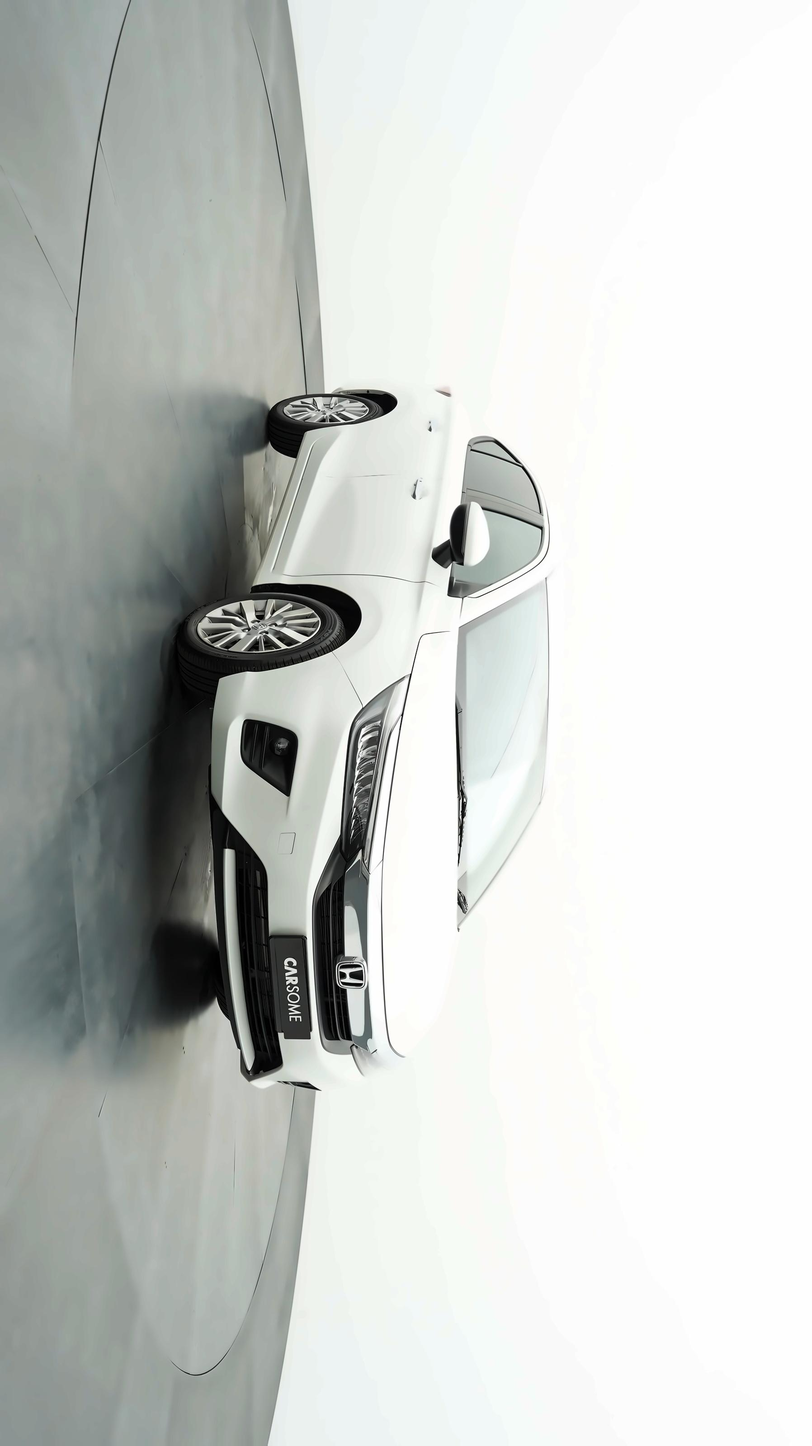Car hood: (380, 615, 465, 1056)
Driver-s door - -F-R-: (229, 472, 559, 612)
Fender - -F-R-: (256, 558, 463, 700)
Fender - -R-R-: (277, 358, 517, 447)
Front bumper: (201, 644, 366, 1096)
Headlight - -L-: (335, 1026, 405, 1082)
Headlight - -R-: (330, 671, 405, 875)
Passenger-s door - -R-R-: (262, 411, 563, 526)
Side bumper - -R-: (224, 420, 337, 610)
Side mirror - -R-: (423, 493, 489, 574)
